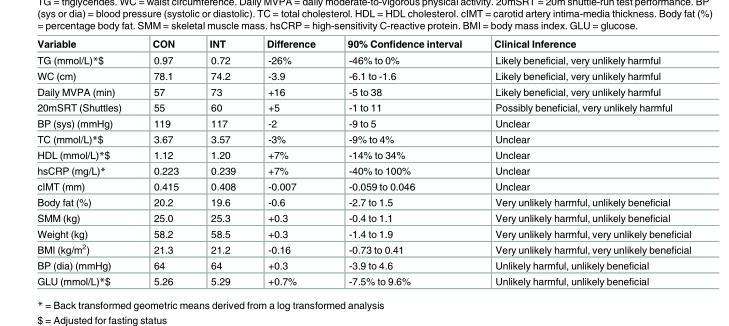table: (36, 37, 690, 286)
table column: (477, 37, 690, 286), (330, 37, 477, 286), (36, 37, 136, 286), (250, 37, 330, 286), (136, 37, 193, 286), (193, 37, 250, 286)
table column header: (36, 37, 690, 51)
table row: (36, 51, 690, 67), (36, 67, 690, 83), (36, 83, 690, 99), (36, 114, 690, 130), (36, 130, 690, 146), (36, 146, 690, 162), (36, 162, 690, 178), (36, 193, 690, 209), (36, 209, 690, 225), (36, 240, 690, 256), (36, 256, 690, 272), (36, 99, 690, 114), (36, 178, 690, 193), (36, 225, 690, 240), (36, 37, 690, 51), (36, 272, 690, 286)
